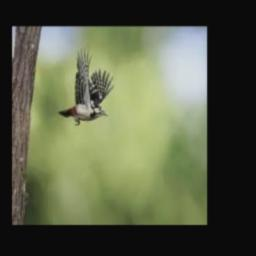Woodpecker: (59, 45, 115, 126)
